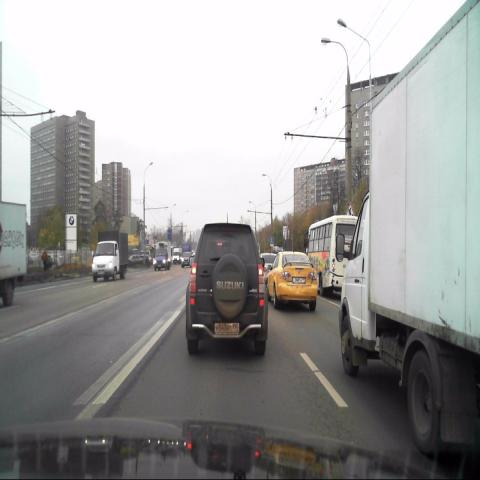1_25: (345, 202, 355, 218)
